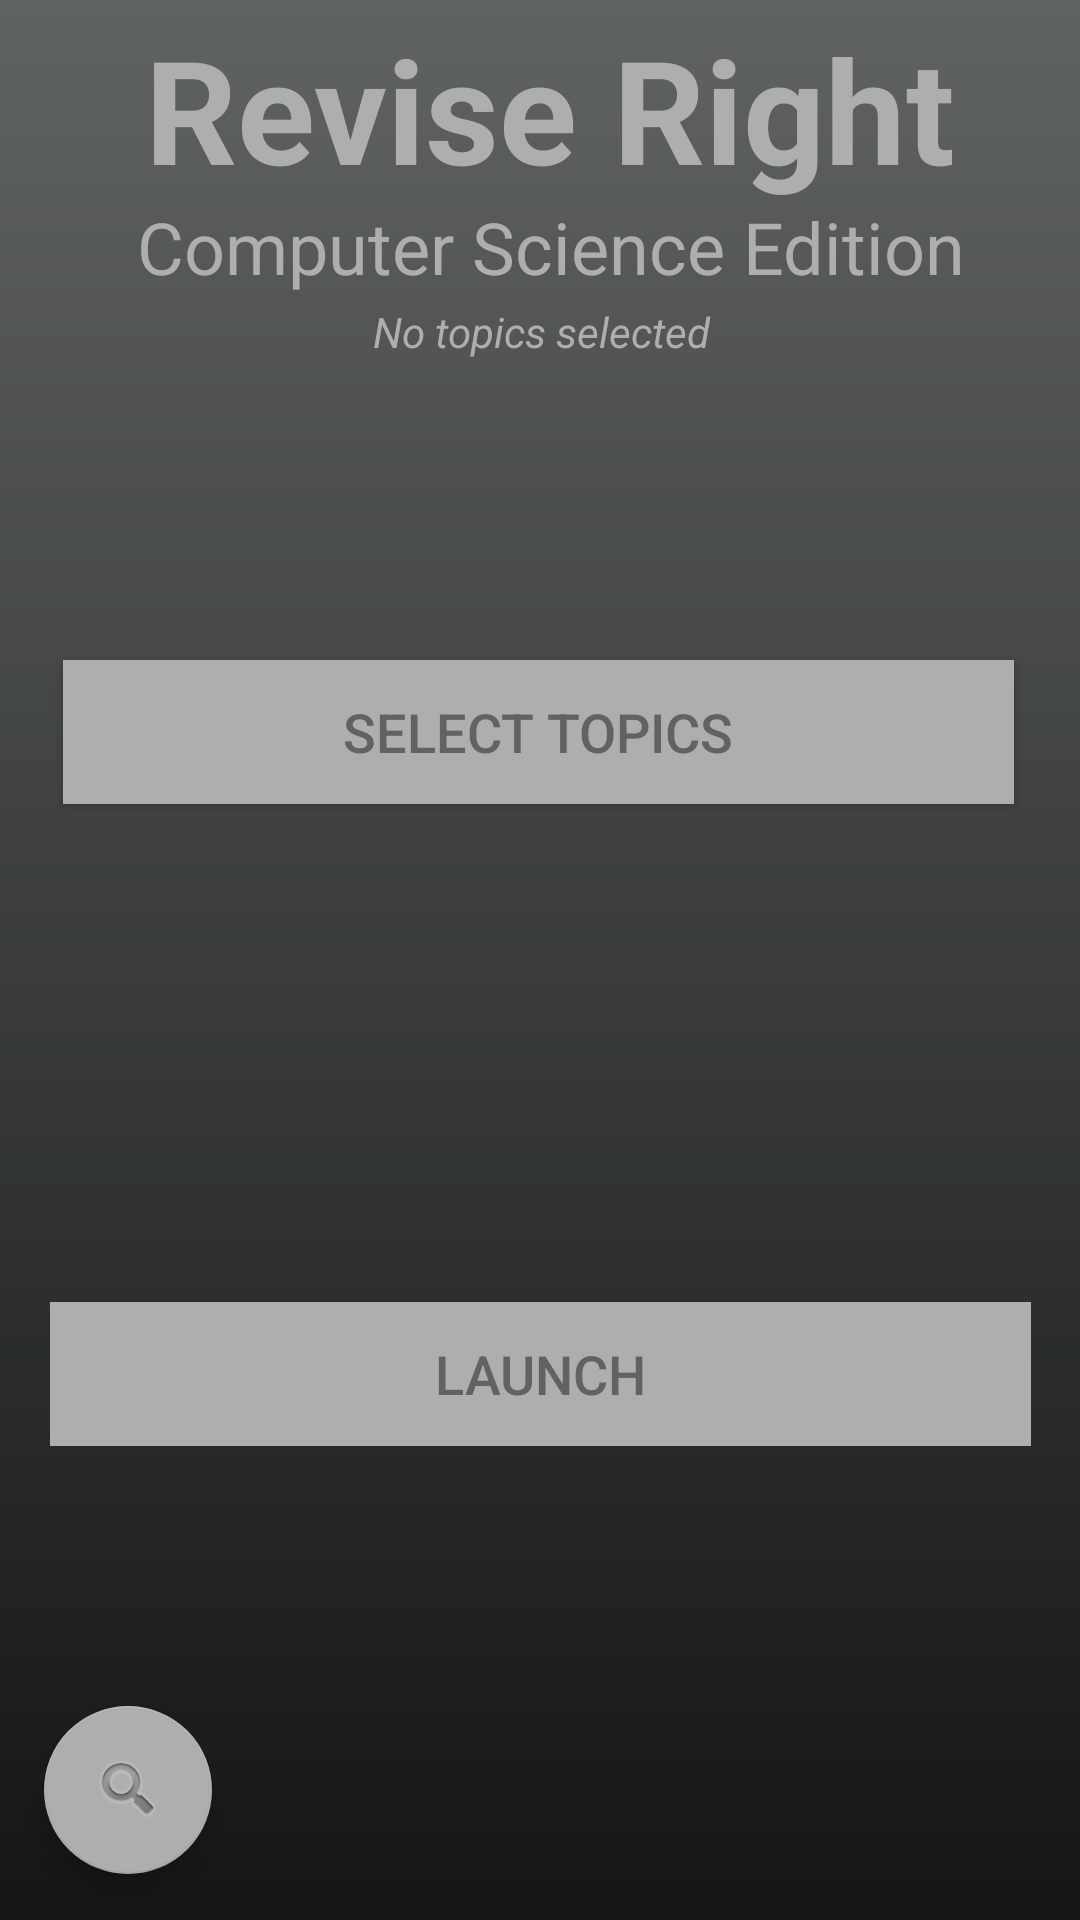

Where icons sit on this 1080*1920 app screen, as (x1, y1, x2, y2):
search category: (44, 1706, 212, 1874)
